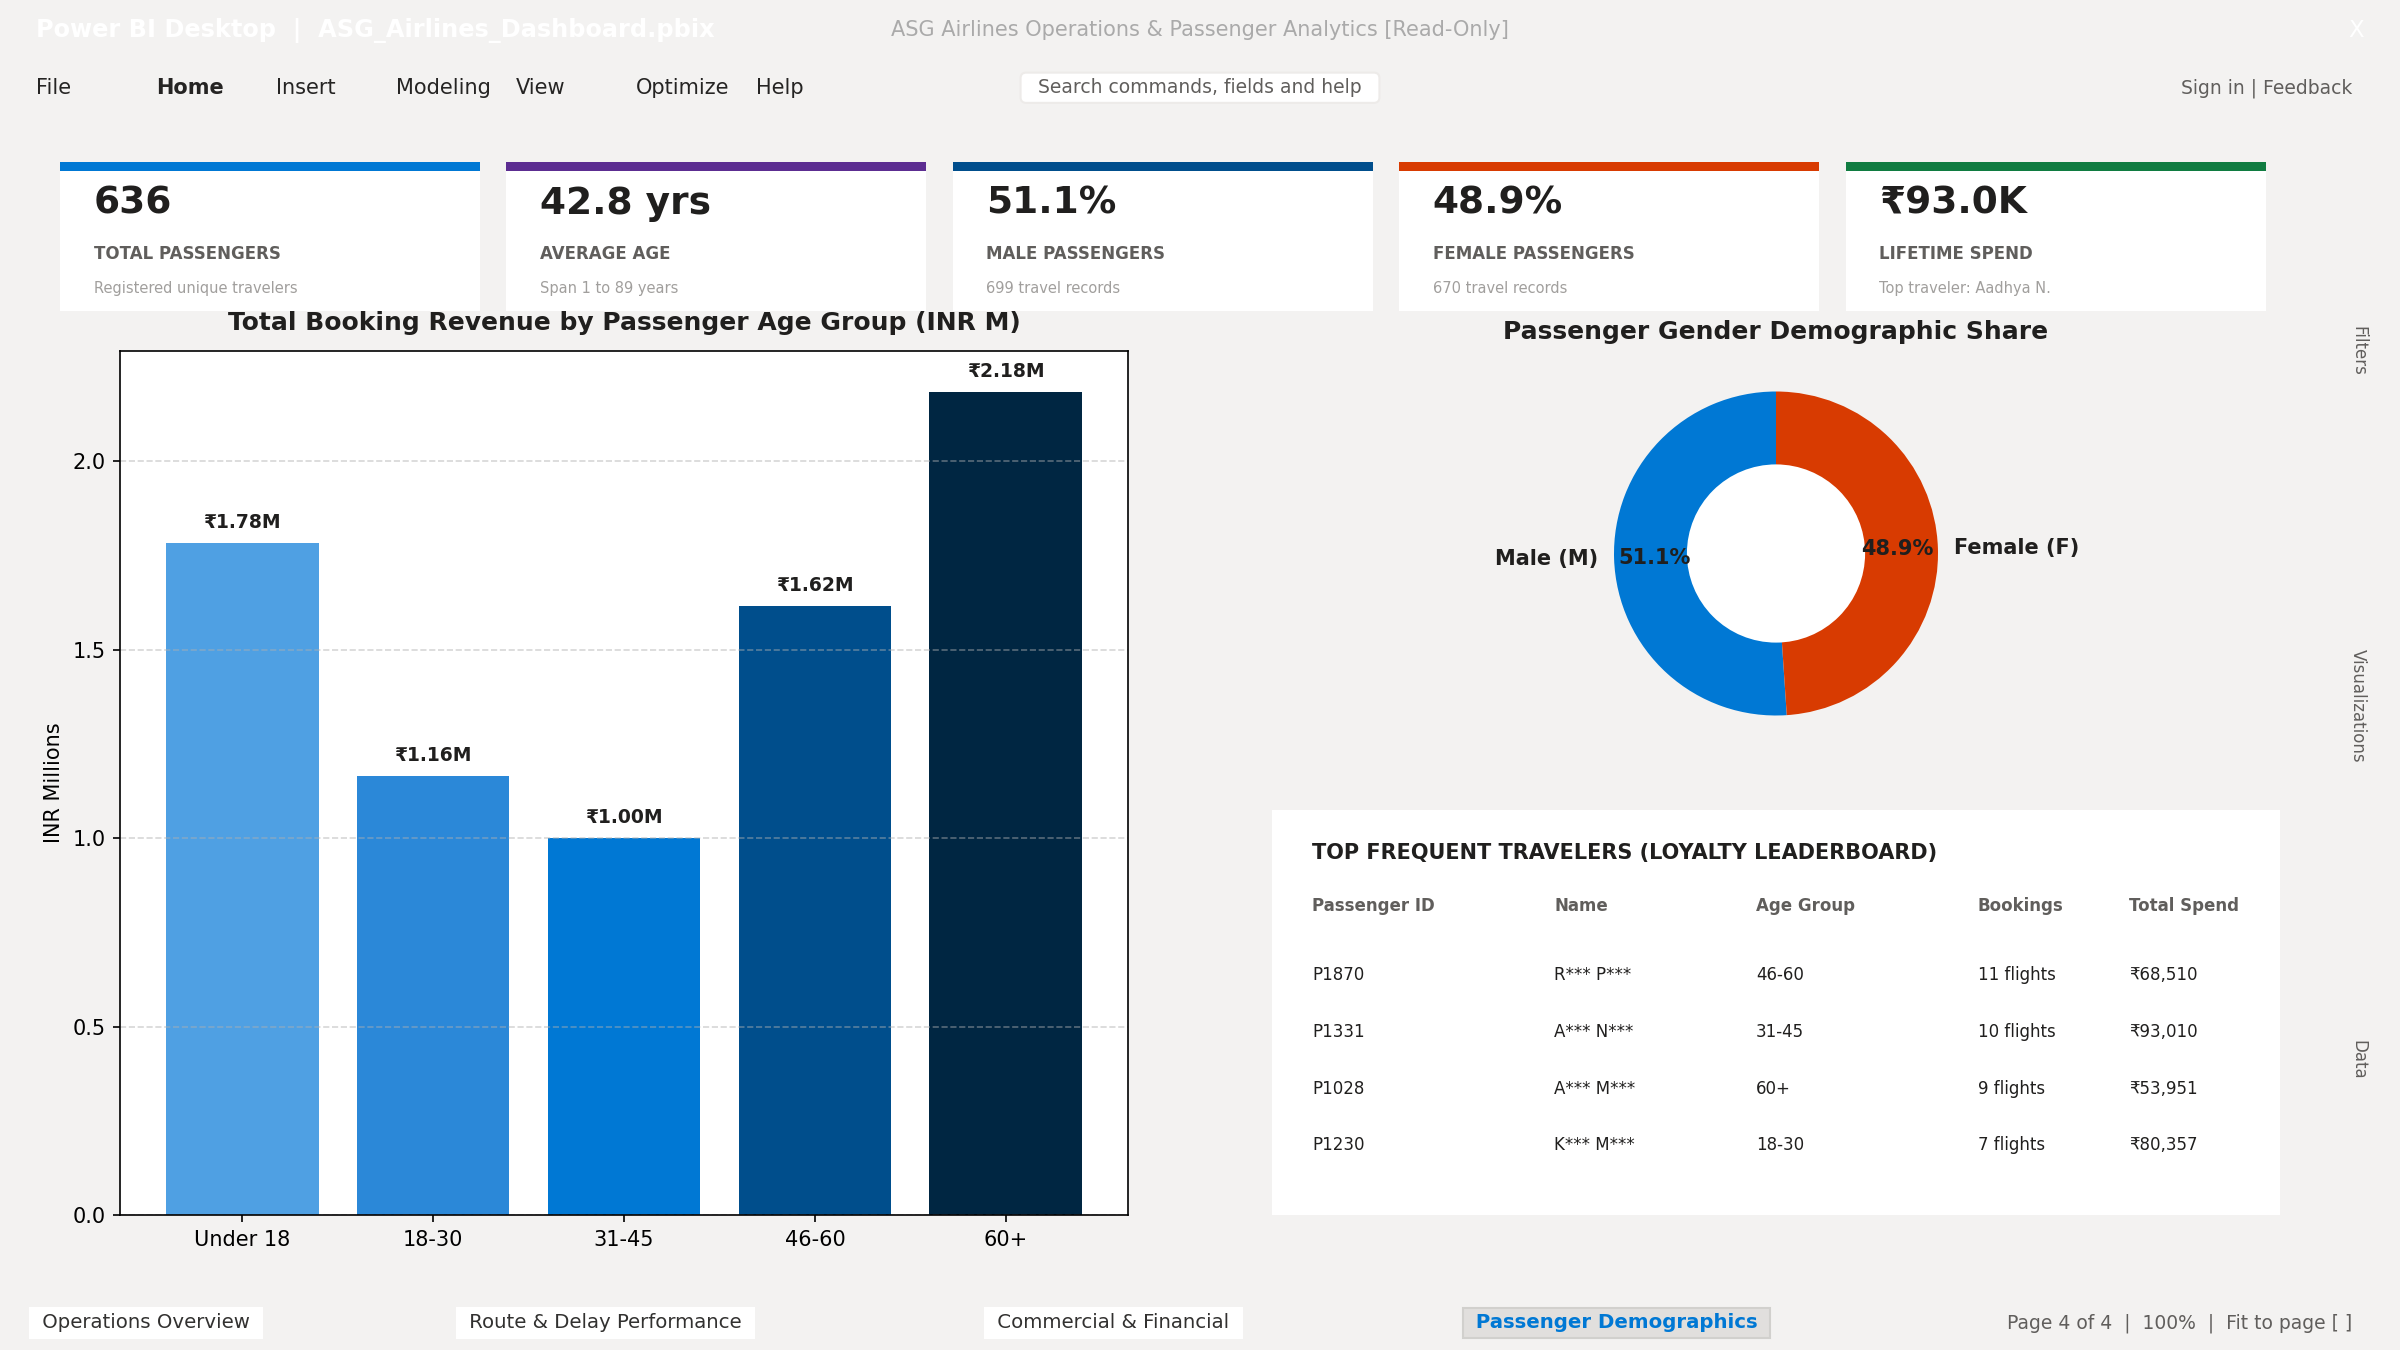

This screenshot's page, from the dashboard's own definition file:
{"tool":"powerbi","page":{"name":"Passenger Demographics & Loyalty","canvas":[1280,720],"ordinal":3},"visuals":[{"type":"card","fields":{"Values":["master_dataset.Total Unique Passengers"]},"box":[20,20,380,110],"z":0},{"type":"card","fields":{"Values":["master_dataset.Avg Passenger Age"]},"box":[420,20,380,110],"z":1000},{"type":"card","fields":{"Values":["master_dataset.Total Revenue"]},"box":[820,20,380,110],"z":2000},{"type":"columnChart","fields":{"Category":["master_dataset.age_group"],"Y":["master_dataset.Total Revenue"]},"box":[20,150,580,340],"z":3000},{"type":"barChart","fields":{"Category":["master_dataset.age_group"],"Y":["master_dataset.Total Bookings"]},"box":[620,150,580,340],"z":4000},{"type":"slicer","fields":{"Values":["master_dataset.gender"]},"box":[20,510,380,170],"z":5000},{"type":"slicer","fields":{"Values":["master_dataset.age_group"]},"box":[420,510,380,170],"z":6000}]}

Visuals, with their boxes on the page's 1280x720 design canvas (x1, y1, x2, y2). These are canvas units, not pixel positions in the 2400x1350 screenshot, which may show the page scaled, cropped or inside an application window:
card - master_dataset.Total Unique Passengers: bbox=(20, 20, 400, 130)
card - master_dataset.Avg Passenger Age: bbox=(420, 20, 800, 130)
card - master_dataset.Total Revenue: bbox=(820, 20, 1200, 130)
columnChart - master_dataset.age_group x master_dataset.Total Revenue: bbox=(20, 150, 600, 490)
barChart - master_dataset.age_group x master_dataset.Total Bookings: bbox=(620, 150, 1200, 490)
slicer - master_dataset.gender: bbox=(20, 510, 400, 680)
slicer - master_dataset.age_group: bbox=(420, 510, 800, 680)
